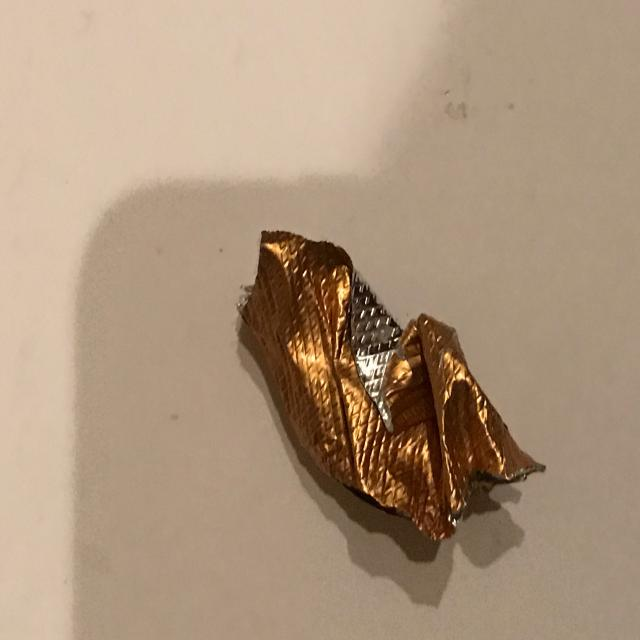metal: (237, 227, 546, 542)
